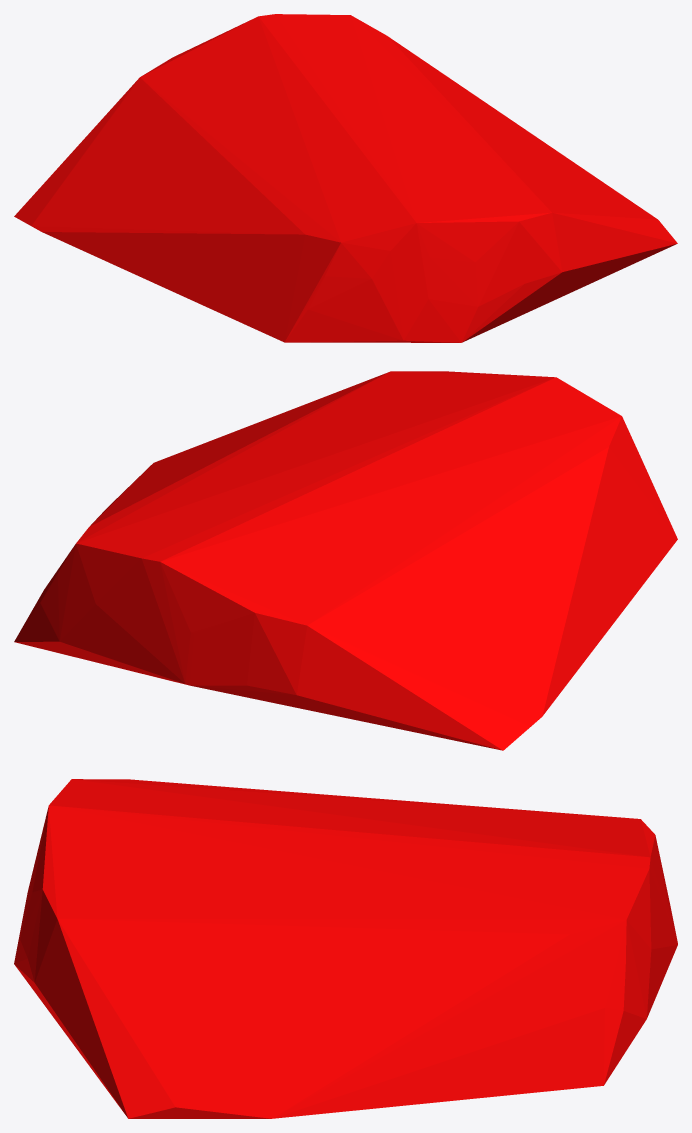
Rendered from wrist_pitch_0091_convex_hull_08.obj.
The picture shows the model from 3 angles, top to bottom: view 1: azimuth 30°, elevation 25°; view 2: azimuth 150°, elevation 25°; view 3: azimuth 270°, elevation 25°; orthographic projection. The views are drawn at different scales.
Parts seen in each view (by area): view 1: wrist_pitch_0091_convex_hull_08; view 2: wrist_pitch_0091_convex_hull_08; view 3: wrist_pitch_0091_convex_hull_08.
Part boxes in pixels (<box>): wrist_pitch_0091_convex_hull_08: <box>14,14,677,342</box>; wrist_pitch_0091_convex_hull_08: <box>14,371,677,750</box>; wrist_pitch_0091_convex_hull_08: <box>14,779,677,1118</box>.
Bounding box in the file's own units: 0.0587 × 0.014 × 0.0589.
